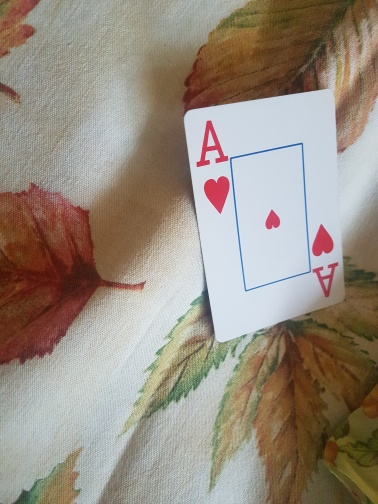ace: (183, 89, 346, 340)
